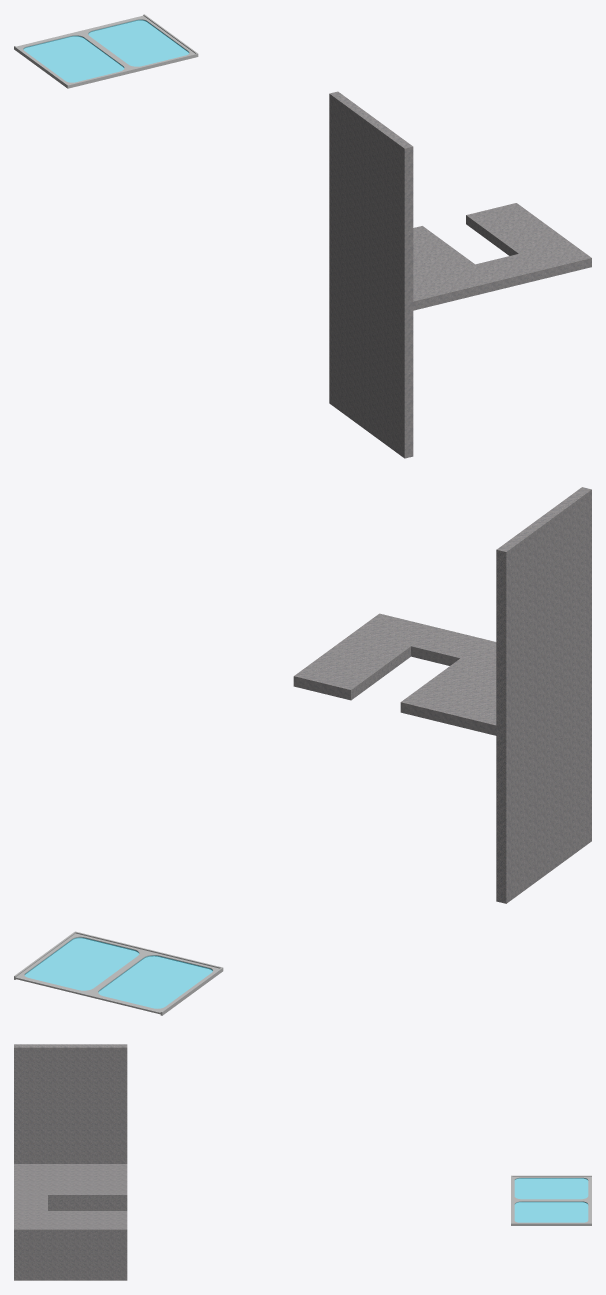
3 views of the same model, one above another, from view 1: azimuth 30°, elevation 25°; view 2: azimuth 150°, elevation 25°; view 3: azimuth 270°, elevation 25° (orthographic). The views are drawn at different scales.
Visible parts, largest first — view 1: 0_0_2_2_1_2_0; view 2: 0_0_2_2_1_2_0; view 3: 0_0_2_2_1_2_0.
Part boxes in pixels (x1,y1,x2,y2): 0_0_2_2_1_2_0: (14, 14, 591, 458); 0_0_2_2_1_2_0: (14, 487, 591, 1015); 0_0_2_2_1_2_0: (14, 1044, 591, 1280).
Size of the model in its own units: 4.44 by 6.8 by 15.3.
4 materials, 2 textured.
